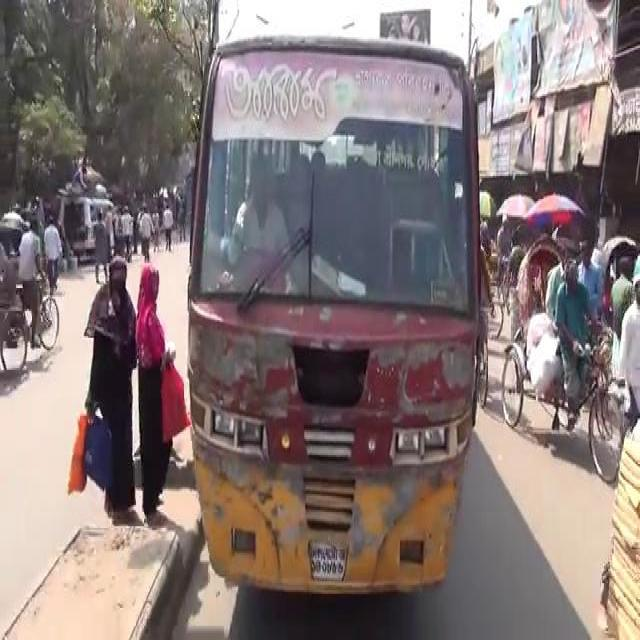13: (497, 230, 628, 488), (0, 215, 61, 382), (594, 225, 638, 337), (478, 221, 494, 419)
19: (52, 186, 116, 268)
Truck: (182, 24, 478, 588)
